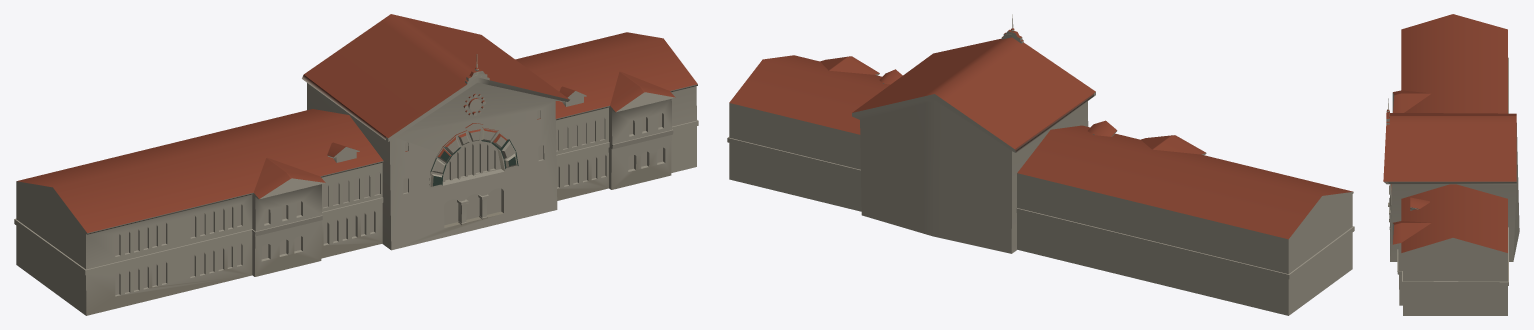
The picture shows the model from 3 angles, left to right: view 1: azimuth 30°, elevation 25°; view 2: azimuth 150°, elevation 25°; view 3: azimuth 270°, elevation 25°; orthographic projection. The views are drawn at different scales.
Parts seen in each view (by area): view 1: polySurface32:PIV; view 2: polySurface32:PIV; view 3: polySurface32:PIV.
Part boxes in pixels (x1,y1,x2,y2): polySurface32:PIV: (14, 14, 698, 315); polySurface32:PIV: (727, 14, 1354, 315); polySurface32:PIV: (1383, 14, 1519, 315).
Size of the model in its own units: 101 by 28.08 by 25.84.
